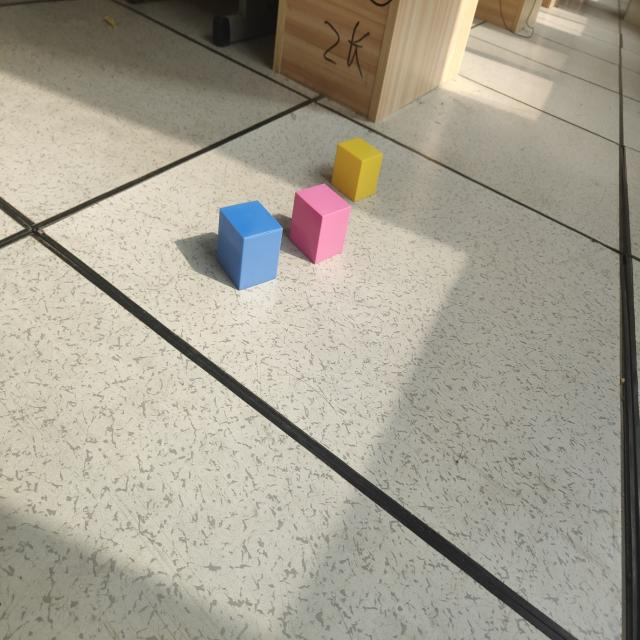blue: (215, 202, 284, 293)
pink: (288, 185, 353, 264)
yellow: (329, 139, 383, 205)
